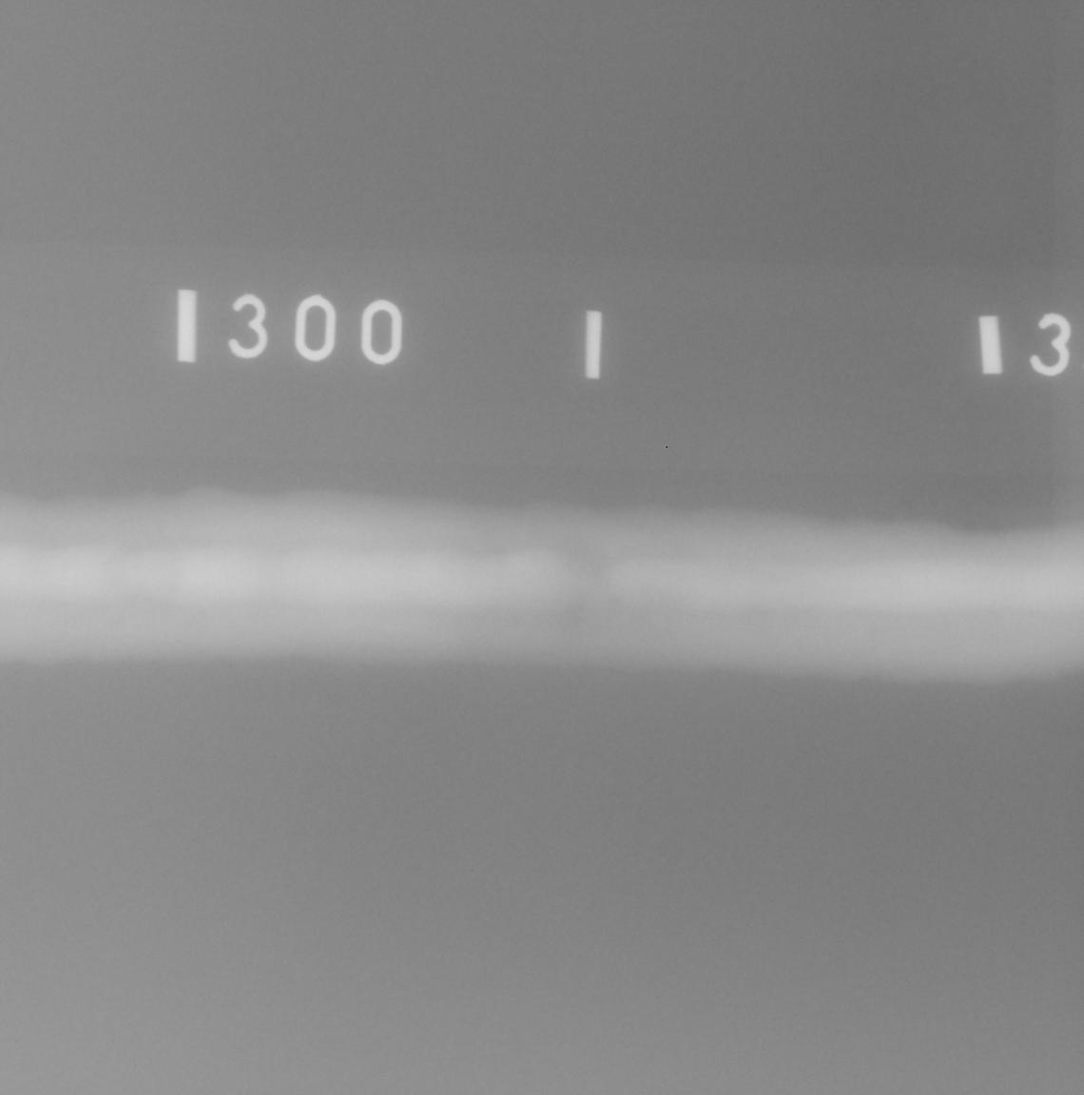Pore/Porosity: (201, 584, 207, 590)
